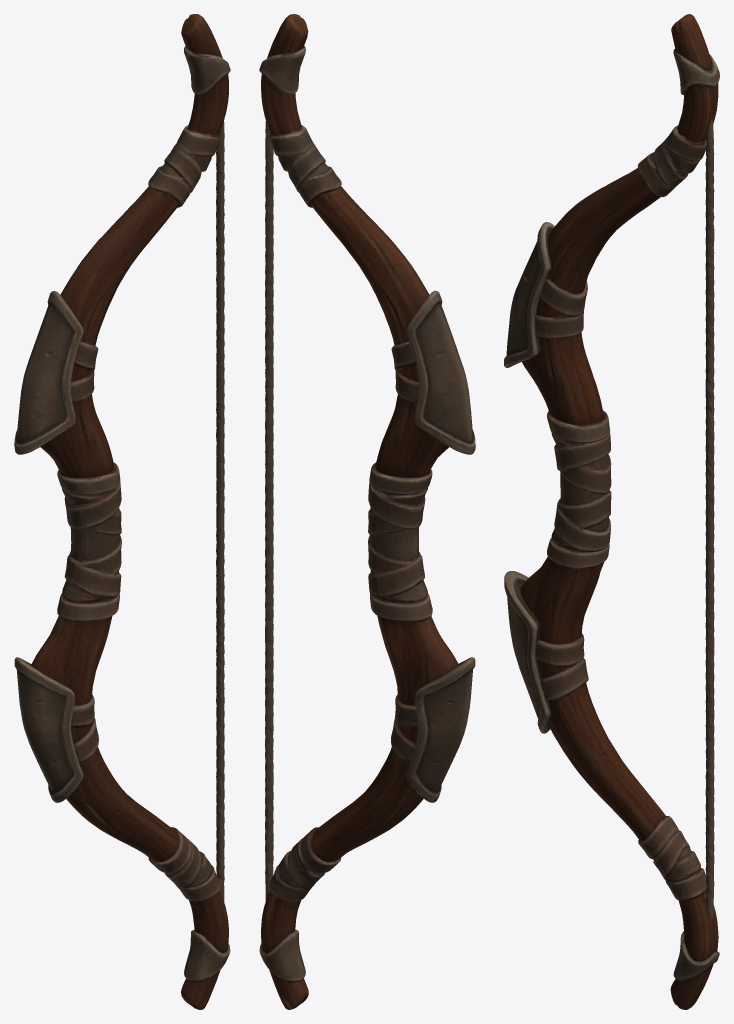
The model's file is short_bow.glb.
3 views of the same model, side by side, from view 1: azimuth 30°, elevation 25°; view 2: azimuth 150°, elevation 25°; view 3: azimuth 330°, elevation 25° (orthographic).
Parts seen in each view (by area): view 1: Mesh_0; view 2: Mesh_0; view 3: Mesh_0.
Boxes of the visible parts, box(x1,y1,x2,y2) form: Mesh_0: box(14, 14, 230, 1009); Mesh_0: box(259, 14, 475, 1009); Mesh_0: box(504, 14, 719, 1009).
Size of the model in its own units: 0.2671 by 1.2 by 0.0695.
1 material, 1 textured.
